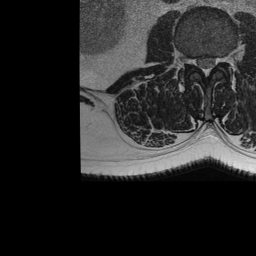CCS_normal: (202, 49, 210, 82)
LFS_stenosis: (218, 48, 227, 69)
LLS_normal: (210, 49, 218, 74)
RFS_stenosis: (186, 48, 195, 71)
RLS_normal: (195, 49, 202, 74)
